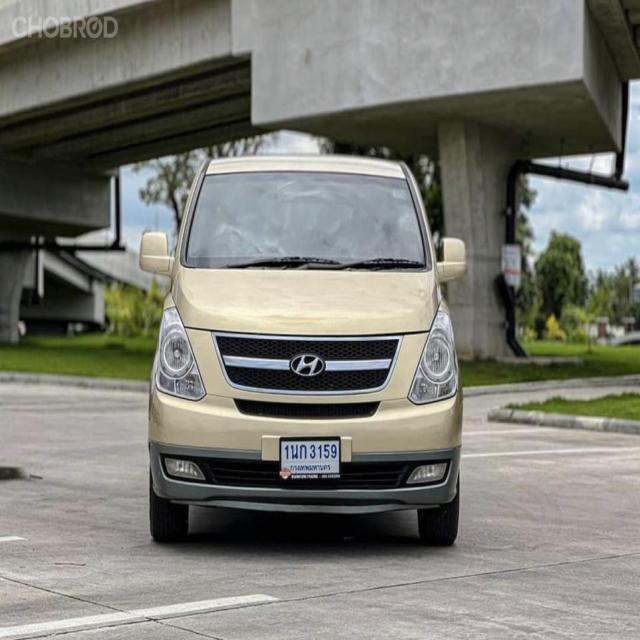license_plate: (280, 434, 342, 483)
